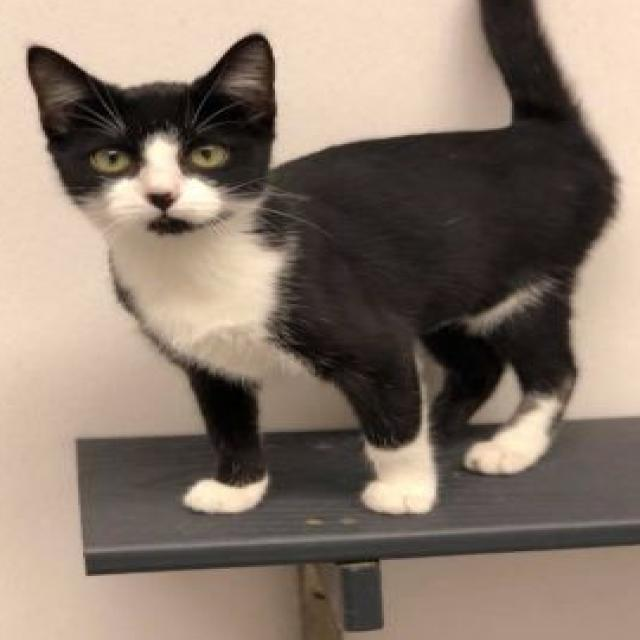Tuxedo: (21, 0, 621, 521)
